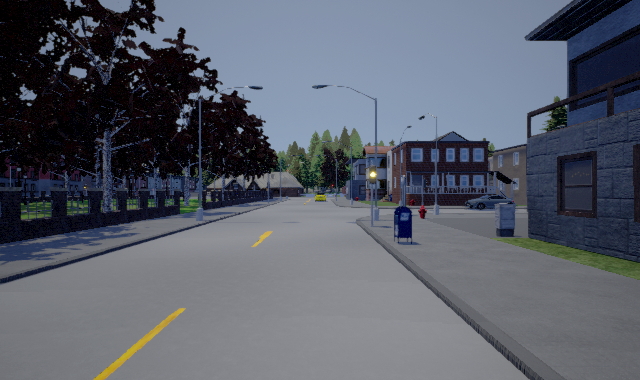traffic_light: (368, 163, 377, 185)
vehicle: (465, 195, 515, 210), (313, 191, 326, 202)
